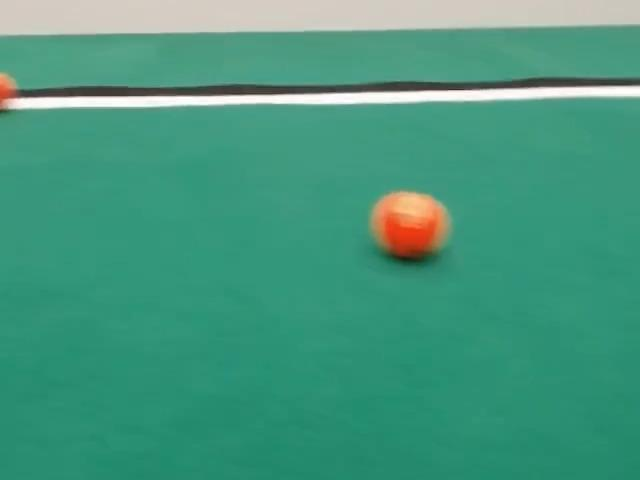Ball: (370, 191, 450, 259), (0, 72, 16, 110)
